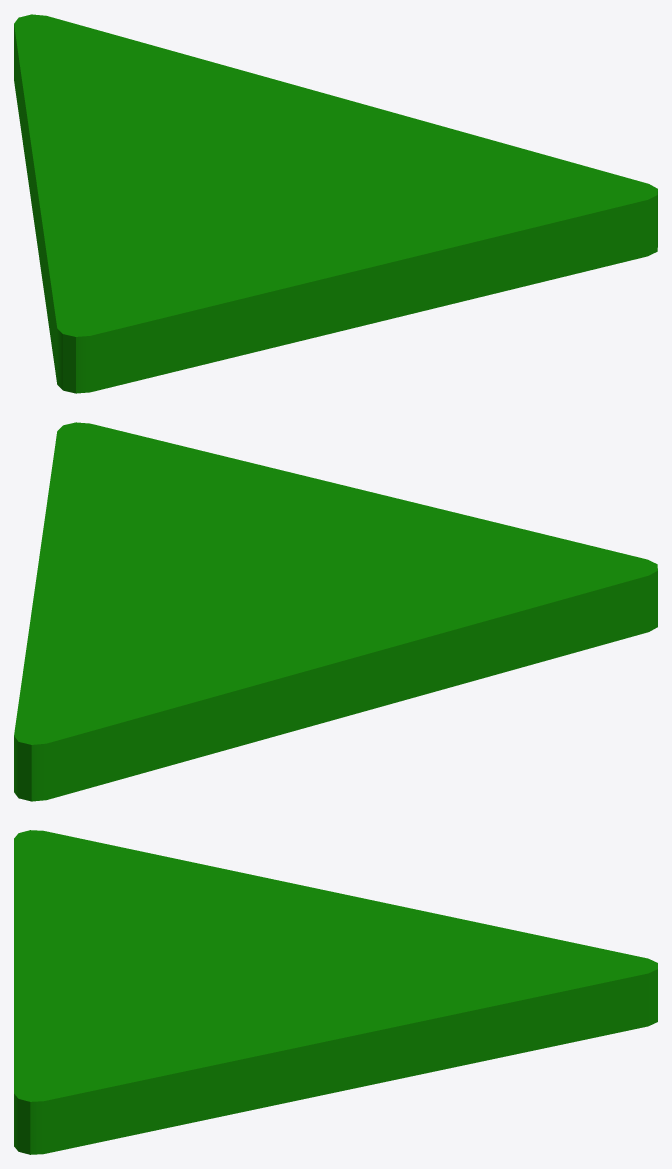
File: PlayButton.fbx
The picture shows the model from 3 angles, top to bottom: view 1: azimuth 30°, elevation 25°; view 2: azimuth 150°, elevation 25°; view 3: azimuth 270°, elevation 25°; orthographic projection. The views are drawn at different scales.
Parts seen in each view (by area): view 1: pCube1; view 2: pCube1; view 3: pCube1.
Part boxes in pixels (box(x1,y1,x2,y2)): pCube1: box(14, 14, 657, 393); pCube1: box(14, 422, 657, 801); pCube1: box(14, 830, 657, 1154).
Bounding box in the file's own units: 0.9604 × 0.0872 × 0.9617.
